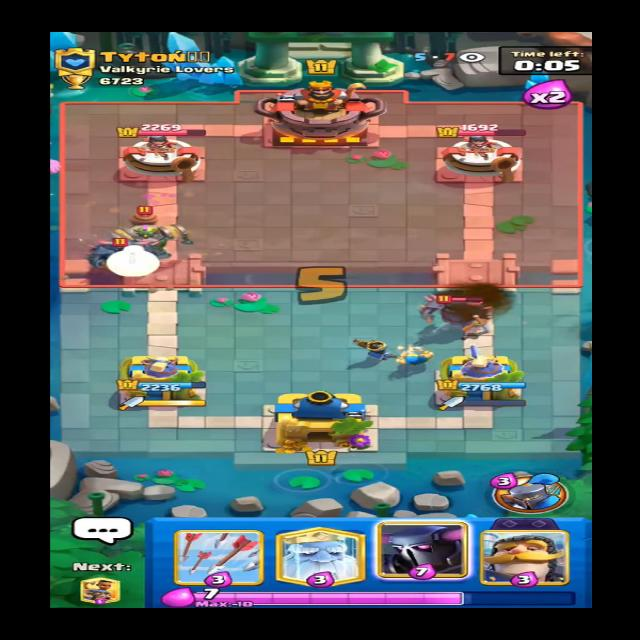Goblinmachine: (108, 205, 190, 258)
Pekka: (82, 234, 175, 276), (422, 288, 504, 330)
